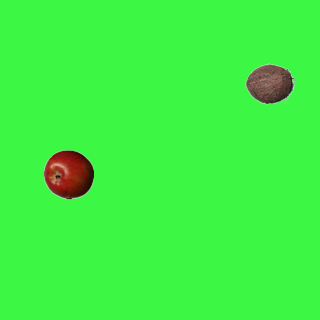Apple Braeburn: (43, 149, 93, 199)
Cocos: (244, 58, 294, 108)
